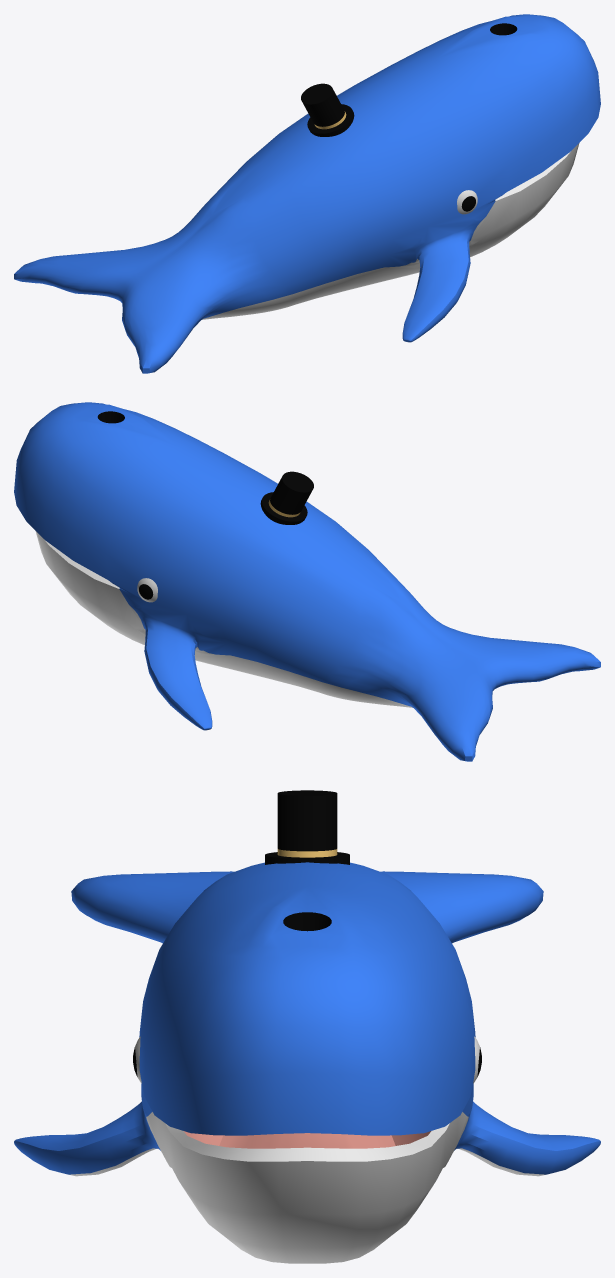
File: Whale.fbx
3 renders of one model, top to bottom at view 1: azimuth 30°, elevation 25°; view 2: azimuth 150°, elevation 25°; view 3: azimuth 270°, elevation 25°, orthographic. The views are drawn at different scales.
Visible parts, largest first — view 1: Body, Hat; view 2: Body, Hat; view 3: Body, Hat.
Part boxes in pixels (left/top/right/bottom): Body: left=14, top=14, right=600, bottom=373; Hat: left=301, top=83, right=354, bottom=136; Body: left=14, top=402, right=600, bottom=761; Hat: left=260, top=471, right=313, bottom=524; Body: left=14, top=862, right=600, bottom=1263; Hat: left=265, top=790, right=349, bottom=864.
Bounding box in the file's own units: 425 × 170 × 237.
